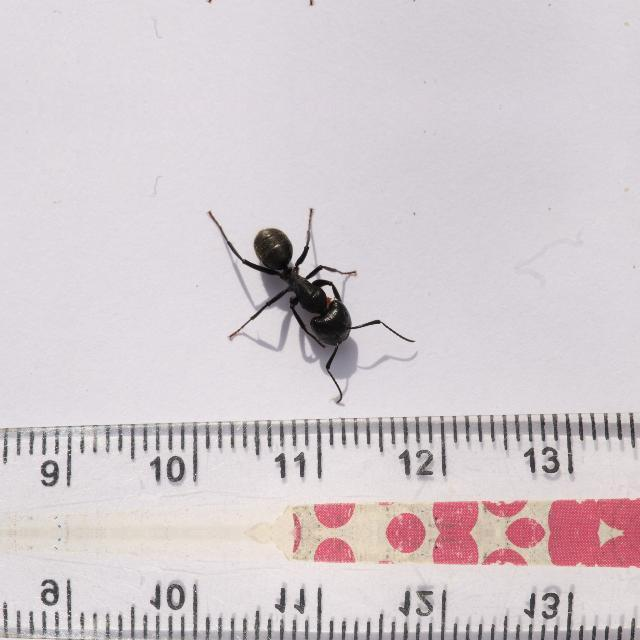Camponotus: (219, 196, 397, 372)
